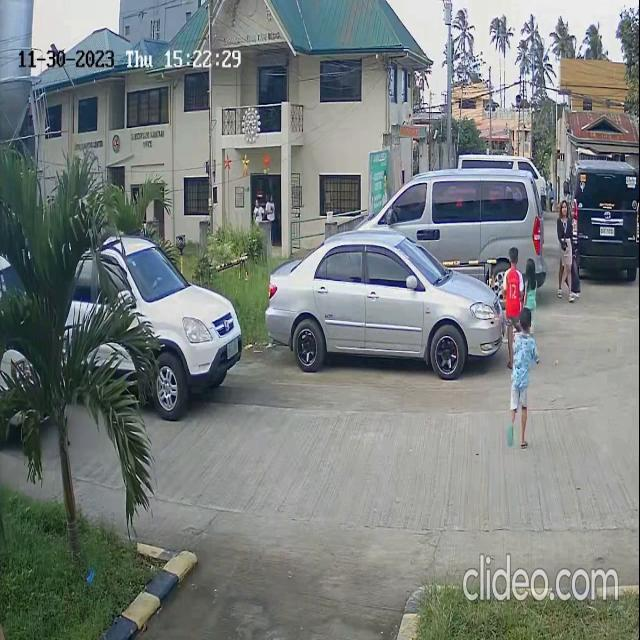person: (506, 304, 536, 444), (499, 237, 523, 335), (554, 196, 575, 286)
